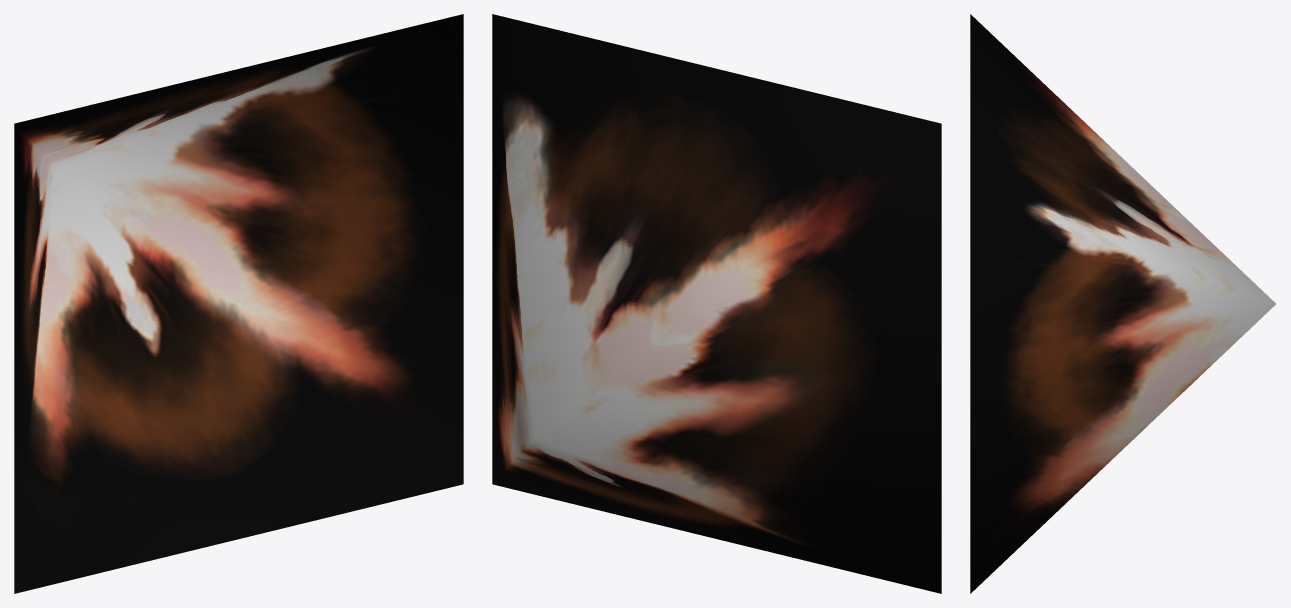
File: MuzzleFlash.fbx
3 renders of one model, left to right at view 1: azimuth 30°, elevation 25°; view 2: azimuth 150°, elevation 25°; view 3: azimuth 270°, elevation 25°, orthographic. The views are drawn at different scales.
Visible parts, largest first — view 1: pPlane441; view 2: pPlane441; view 3: pPlane441.
Boxes of the visible parts, x1,y1,x2,y2 form: pPlane441: [14, 14, 463, 593]; pPlane441: [492, 14, 941, 593]; pPlane441: [970, 14, 1275, 593].
Bounding box in the file's own units: 1 × 1 × 0.7013.
